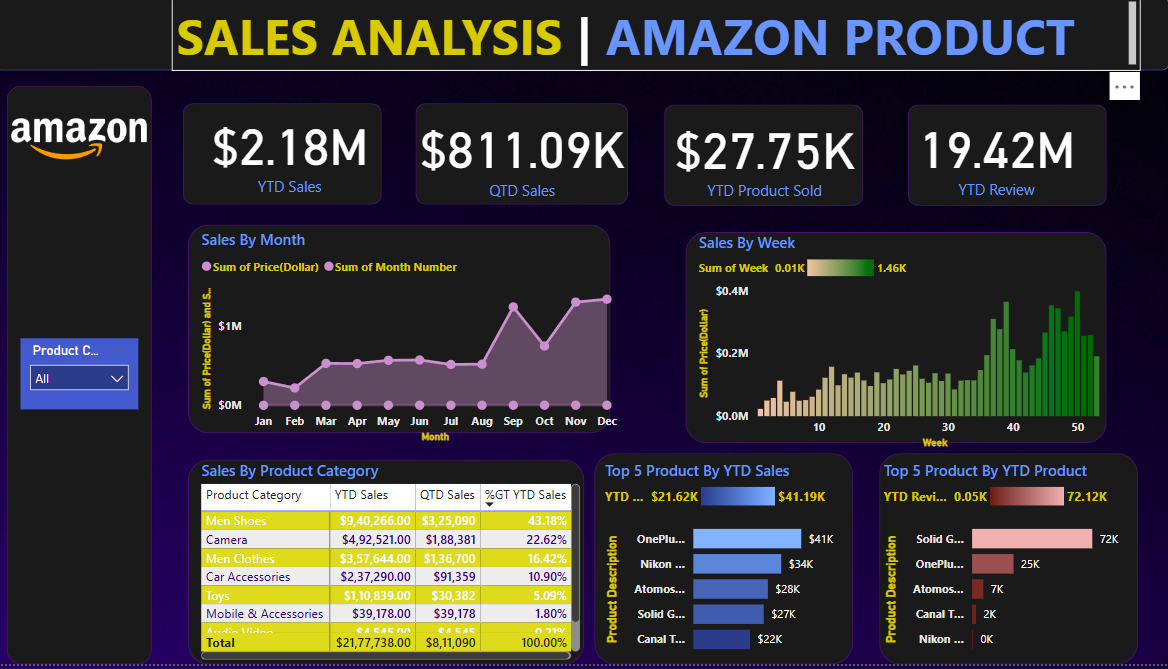

The dashboard page shown, as its layout file describes it:
{"tool":"powerbi","page":{"name":"Page 1","canvas":[1280,720],"ordinal":0},"visuals":[{"type":"shape","box":[12.1,0,1268.1,79.6],"z":0},{"type":"textbox","box":[203.7,0,1045.5,79.6],"z":1000},{"type":"shape","box":[25.6,95.8,156.5,624.6],"z":2000},{"type":"shape","box":[215.9,114.7,214.5,109.3],"z":3000},{"type":"shape","box":[466.8,114.7,229.3,109.3],"z":4000},{"type":"shape","box":[735.2,116,214.5,109.3],"z":5000},{"type":"shape","box":[998.3,116,214.5,109.3],"z":6000},{"type":"card","fields":{"Values":["Amazon_Data.QTD Sales"]},"box":[462.7,116,238.8,107.9],"z":7000},{"type":"card","fields":{"Values":["Amazon_Data.YTD Sales"]},"box":[199.7,110.6,263.1,110.6],"z":8000},{"type":"card","fields":{"Values":["Amazon_Data.YTD Review"]},"box":[975.4,117.4,237.4,103.9],"z":9000},{"type":"shape","box":[221.2,245.5,456,225.3],"z":10000},{"type":"card","fields":{"Values":["Amazon_Data.YTD Product Sold"]},"box":[681.3,95.8,325.1,149.7],"z":11000},{"type":"areaChart","title":" Sales By Month","fields":{"Category":["Date Table.Month"],"Y":["Sum(Amazon_Data.Price(Dollar))","Sum(Date Table.Month Number)"]},"box":[230.7,249.6,461.4,236.1],"z":12000},{"type":"shape","box":[758.2,253.6,454.6,228],"z":13000},{"type":"image","box":[25.6,117.4,156.5,71.5],"z":14000},{"type":"columnChart","title":" Sales By Week","fields":{"Category":["Date Table.Week"],"Y":["Sum(Amazon_Data.Price(Dollar))"]},"box":[767.6,253.6,461.4,238.8],"z":15000},{"type":"shape","box":[221.2,499.2,427.7,221.2],"z":16000},{"type":"pivotTable","title":"Sales By Product Category","fields":{"Rows":["Amazon_Data.Product Category"],"Values":["Amazon_Data.YTD Sales1","Amazon_Data.QTD Sales","Divide(Amazon_Data.YTD Sales, ScopedEval(Amazon_Data.YTD Sales, []))"]},"box":[230.7,499.2,418.2,221.2],"z":17000},{"type":"shape","box":[967.3,492.4,279.3,228],"z":18000},{"type":"clusteredBarChart","title":" Top 5 Product By YTD Product","fields":{"Category":["Amazon_Data.Product Description"],"Y":["Amazon_Data.YTD Review"]},"box":[967.3,499.2,272.5,221.2],"z":19000},{"type":"shape","box":[659.7,492.4,279.3,228],"z":20000},{"type":"clusteredBarChart","title":" Top 5 Product By YTD Sales","fields":{"Category":["Amazon_Data.Product Description"],"Y":["Amazon_Data.YTD Sales"]},"box":[666.4,499.2,272.5,221.2],"z":21000},{"type":"slicer","fields":{"Values":["Amazon_Data.Product Category"]},"box":[40.5,368.3,126.8,76.9],"z":22000}]}

Visuals, with their boxes in screenshot pixels (x1, y1, x2, y2), scaled from the page's 1280x720 canvas onto the 1168x669 screenshot:
shape: detection(11, 0, 1167, 74)
textbox: detection(186, 0, 1140, 74)
shape: detection(23, 89, 166, 668)
shape: detection(197, 107, 393, 208)
shape: detection(426, 107, 635, 208)
shape: detection(671, 108, 867, 209)
shape: detection(911, 108, 1107, 209)
card - Amazon_Data.QTD Sales: detection(422, 108, 640, 208)
card - Amazon_Data.YTD Sales: detection(182, 103, 422, 206)
card - Amazon_Data.YTD Review: detection(890, 109, 1107, 206)
shape: detection(202, 228, 618, 437)
card - Amazon_Data.YTD Product Sold: detection(622, 89, 918, 228)
" Sales By Month" areaChart: detection(211, 232, 632, 451)
shape: detection(692, 236, 1107, 447)
image: detection(23, 109, 166, 176)
" Sales By Week" columnChart: detection(700, 236, 1121, 458)
shape: detection(202, 464, 592, 668)
"Sales By Product Category" pivotTable: detection(211, 464, 592, 668)
shape: detection(883, 458, 1138, 668)
" Top 5 Product By YTD Product" clusteredBarChart: detection(883, 464, 1131, 668)
shape: detection(602, 458, 857, 668)
" Top 5 Product By YTD Sales" clusteredBarChart: detection(608, 464, 857, 668)
slicer - Amazon_Data.Product Category: detection(37, 342, 153, 414)
